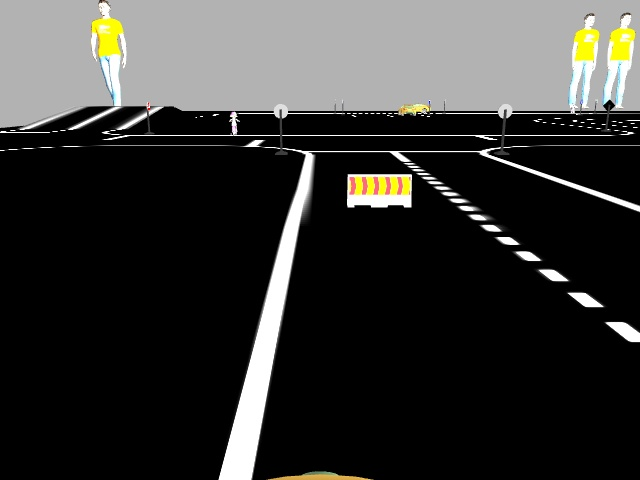ClosedRoadStand: (349, 173, 411, 206)
